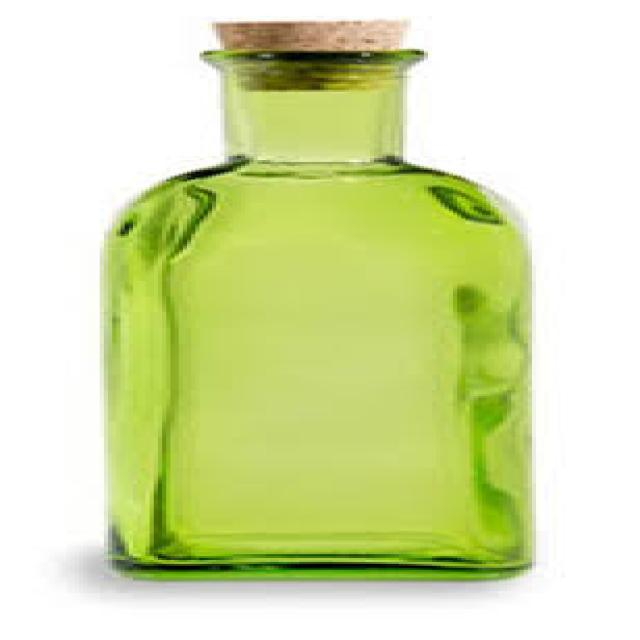glass: (104, 49, 528, 578)
